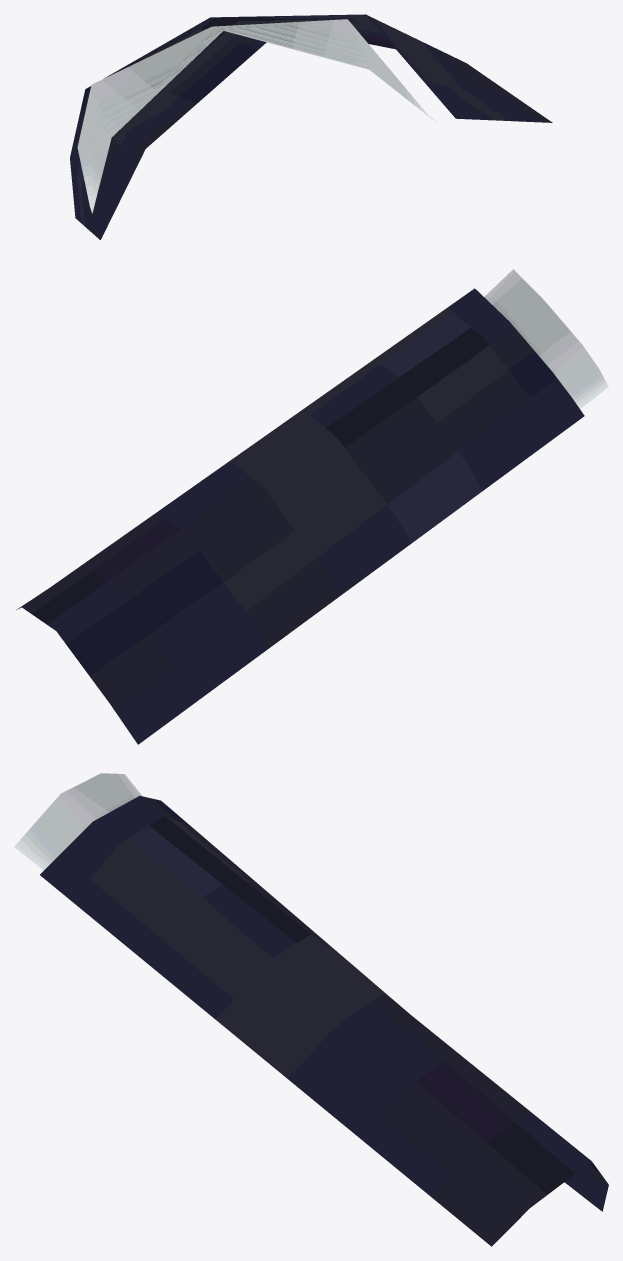
File: muzzle.glb
3 renders of one model, top to bottom at view 1: azimuth 30°, elevation 25°; view 2: azimuth 150°, elevation 25°; view 3: azimuth 270°, elevation 25°, orthographic. The views are drawn at different scales.
Parts seen in each view (by area): view 1: m8ClampSClampT, m7CullBothClampSClampT; view 2: m8ClampSClampT, m7CullBothClampSClampT; view 3: m8ClampSClampT, m7CullBothClampSClampT.
Boxes of the visible parts, box(x1,y1,x2,y2) form: m8ClampSClampT: box(70, 14, 552, 239); m7CullBothClampSClampT: box(77, 19, 437, 213); m8ClampSClampT: box(16, 288, 584, 744); m7CullBothClampSClampT: box(484, 269, 608, 408); m8ClampSClampT: box(40, 796, 608, 1246); m7CullBothClampSClampT: box(14, 773, 141, 870).
Size of the model in its own units: 243 by 182 by 279.
2 materials, 2 textured.
